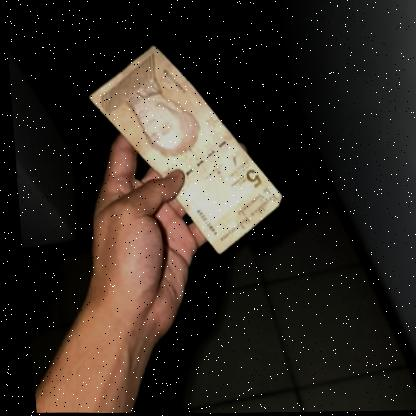five-front-vef: (78, 42, 286, 258)
